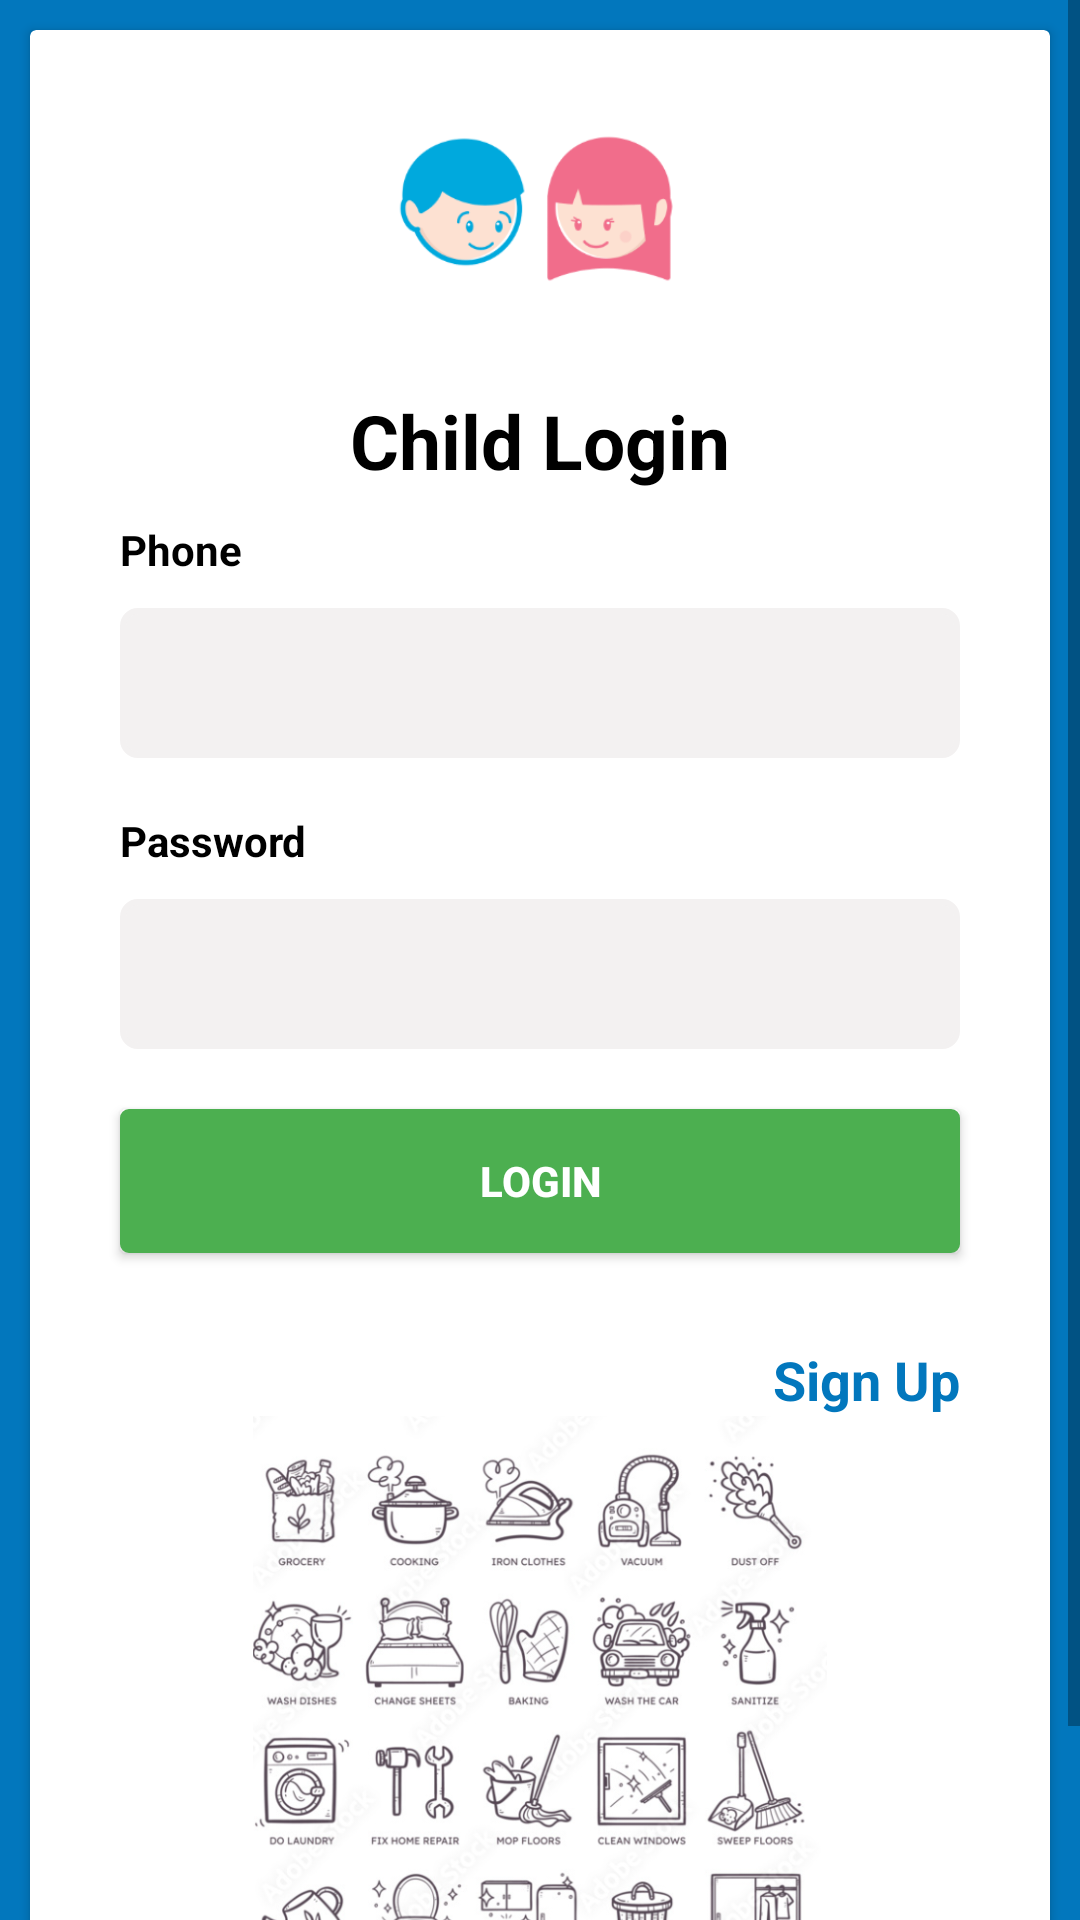

Screen size 1080 x 1920. Icon name, then its center in pixels as (x=x, y=y):
childicon: (x=536, y=209)
